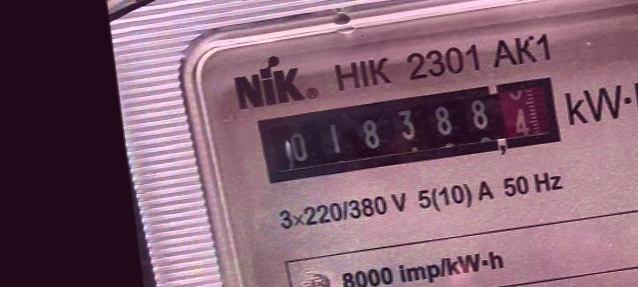0: (284, 130, 308, 168)
1: (321, 120, 343, 159)
3: (393, 108, 417, 146)
4: (506, 106, 530, 141)
8: (356, 116, 381, 154), (464, 97, 489, 135), (429, 105, 453, 142)
screen: (245, 68, 572, 198)
